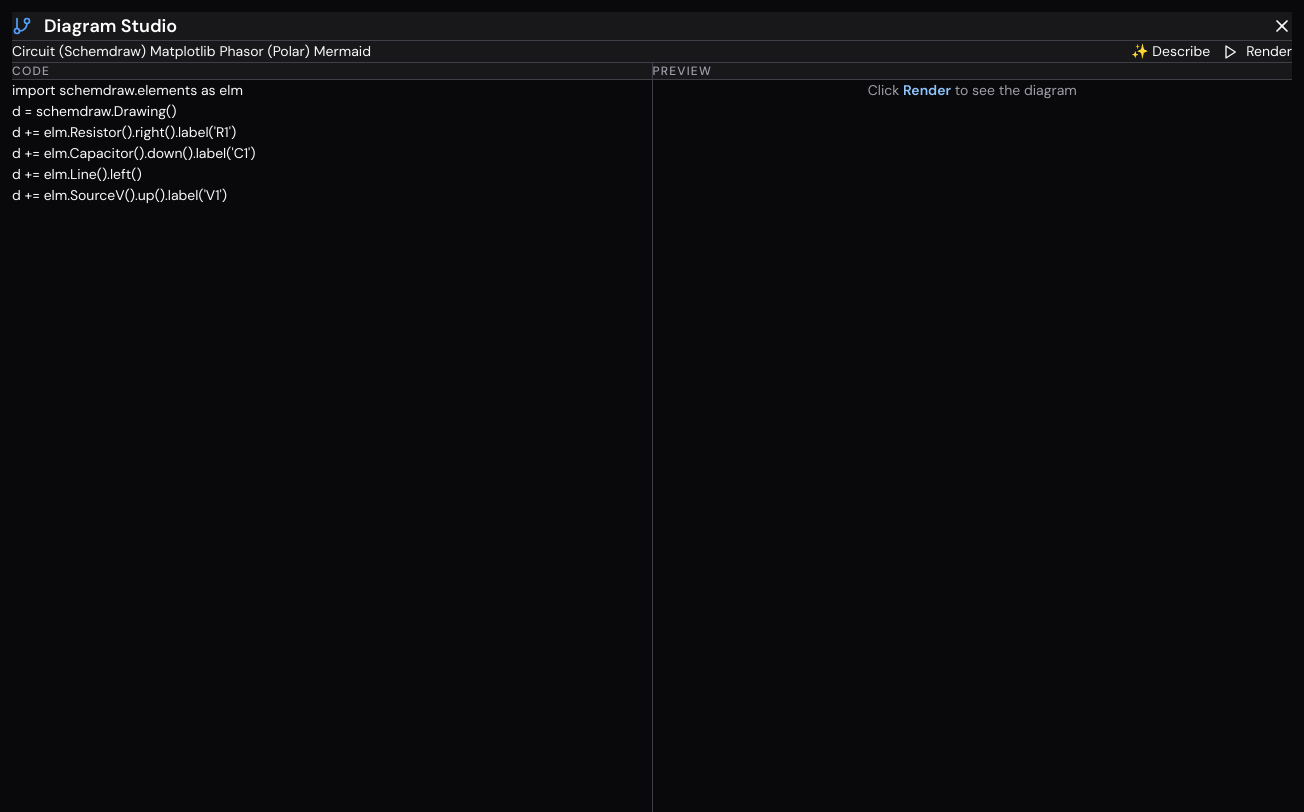
Test case: DiagramMode › Export PNG button is disabled for Mermaid type
Click the button "Mermaid" at (342,52), box [314, 41, 371, 62]
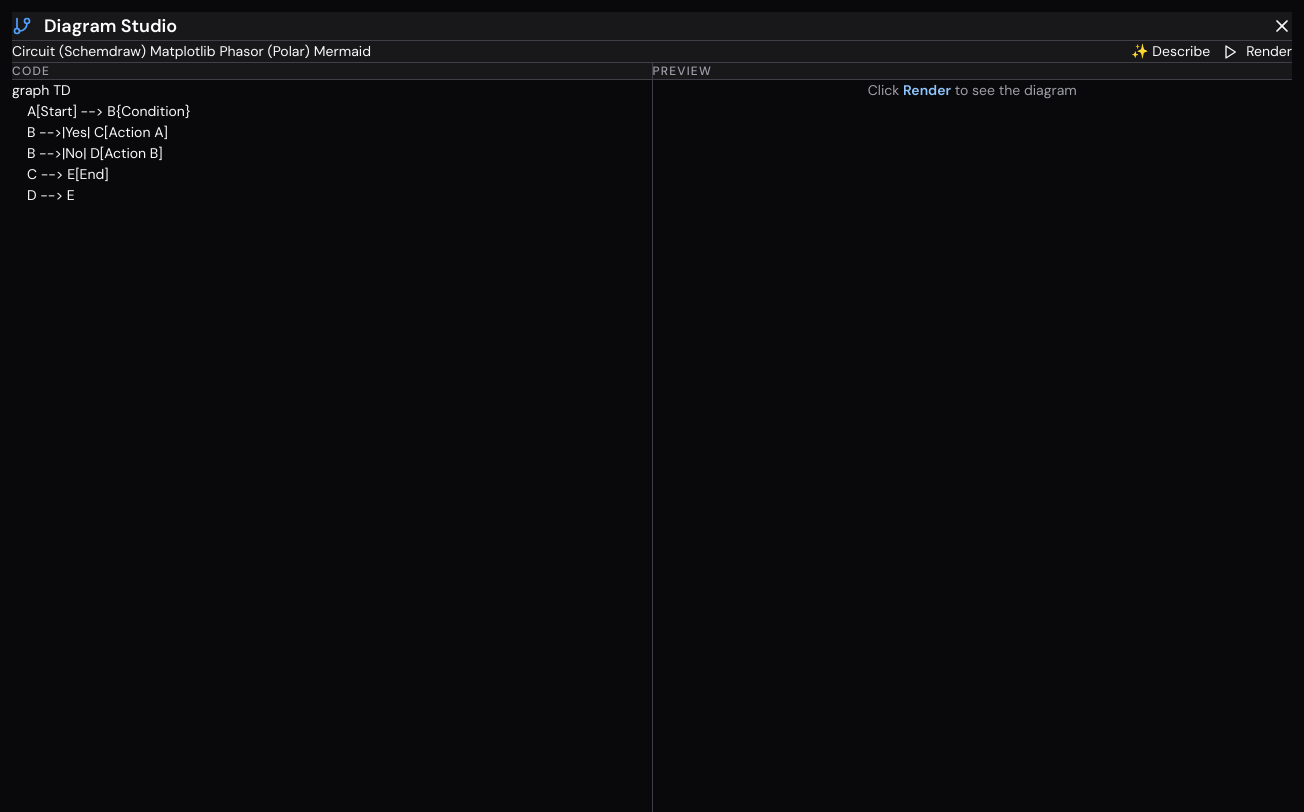
Click the button "Render" at (1257,52), box [1222, 41, 1292, 62]
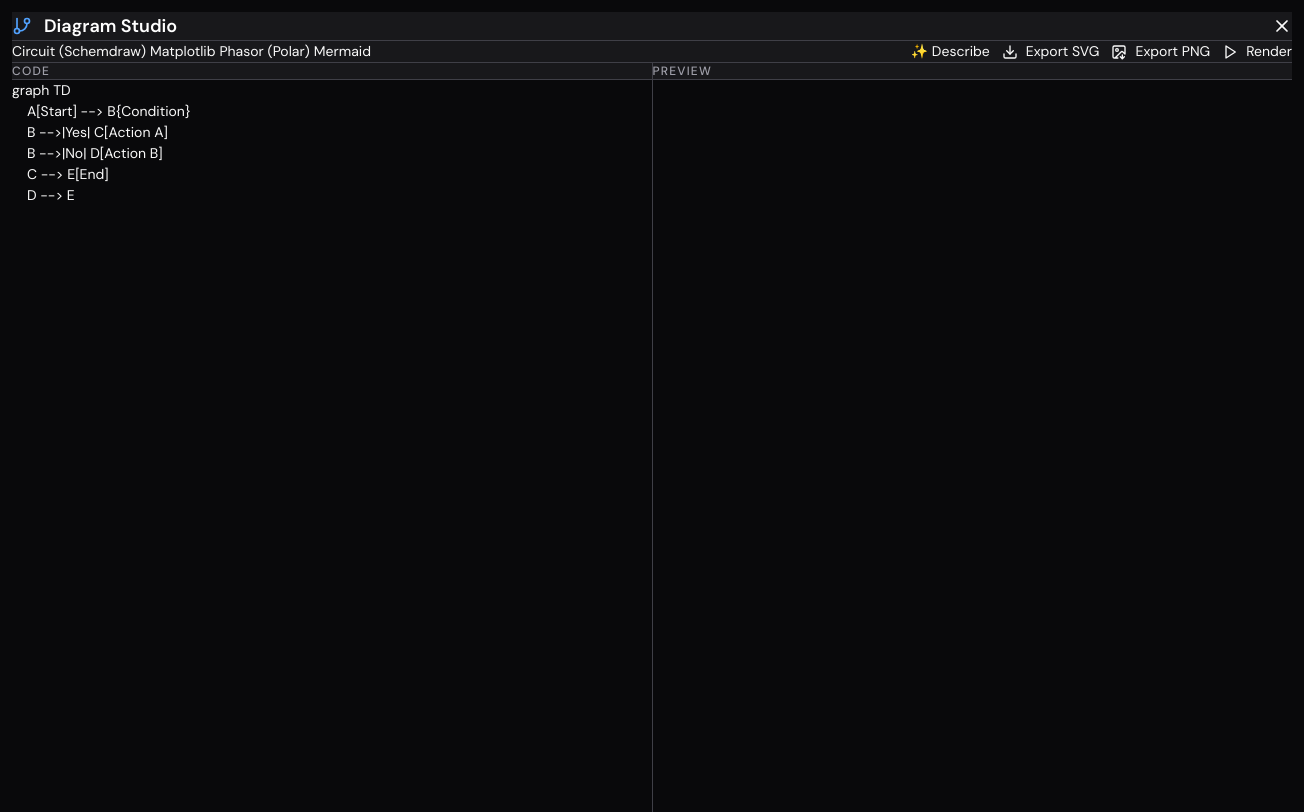
Expected: the button "Export PNG" is disabled, [1112, 41, 1210, 62]
